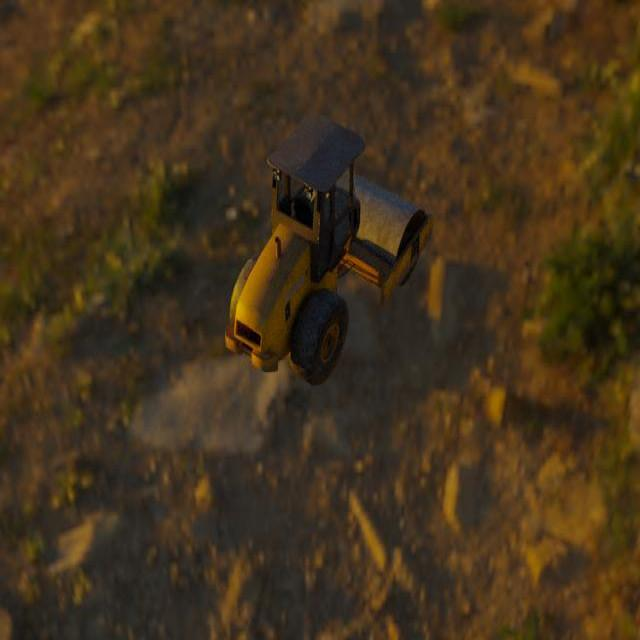Roller: (224, 115, 434, 385)
